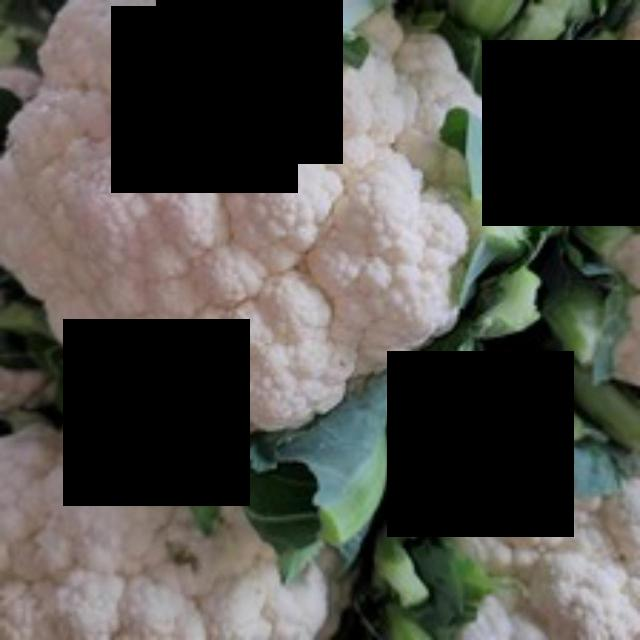cauliflower: (3, 3, 524, 450)
